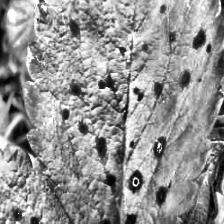Leaf Spot: (20, 0, 224, 224), (138, 114, 224, 224), (0, 143, 108, 224)
